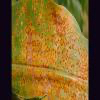Corn rust leaf: (12, 1, 88, 99)
